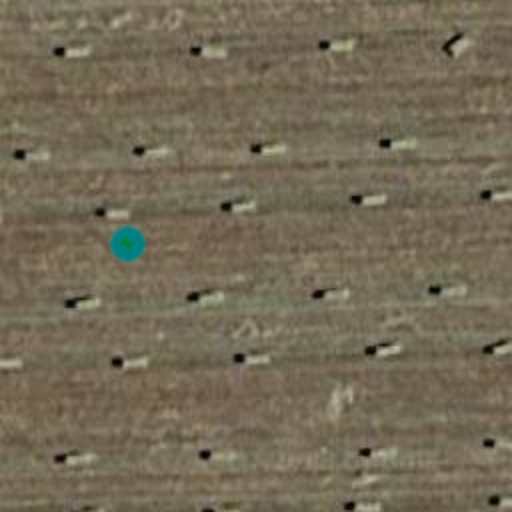circle: (102, 218, 154, 270)
